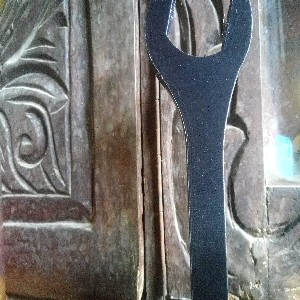spanner: (143, 1, 254, 300)
